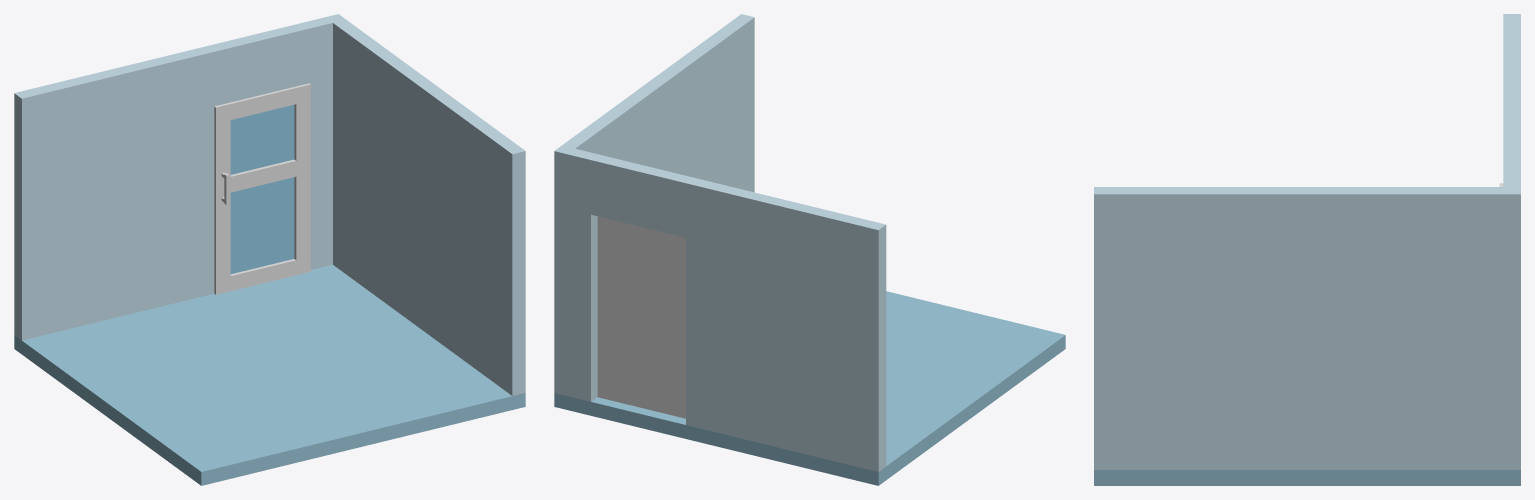
The model's file is room1.glb.
3 renders of one model, left to right at view 1: azimuth 30°, elevation 25°; view 2: azimuth 150°, elevation 25°; view 3: azimuth 270°, elevation 25°, orthographic. The views are drawn at different scales.
Visible parts, largest first — view 1: room1, door; view 2: room1, door; view 3: room1.
Part boxes in pixels (bbox=[...]): room1: bbox=[14, 14, 525, 485]; door: bbox=[214, 83, 310, 294]; room1: bbox=[554, 14, 1065, 485]; door: bbox=[597, 216, 685, 418]; room1: bbox=[1094, 14, 1520, 485].
Size of the model in its own units: 3.65 by 2.75 by 3.65.
